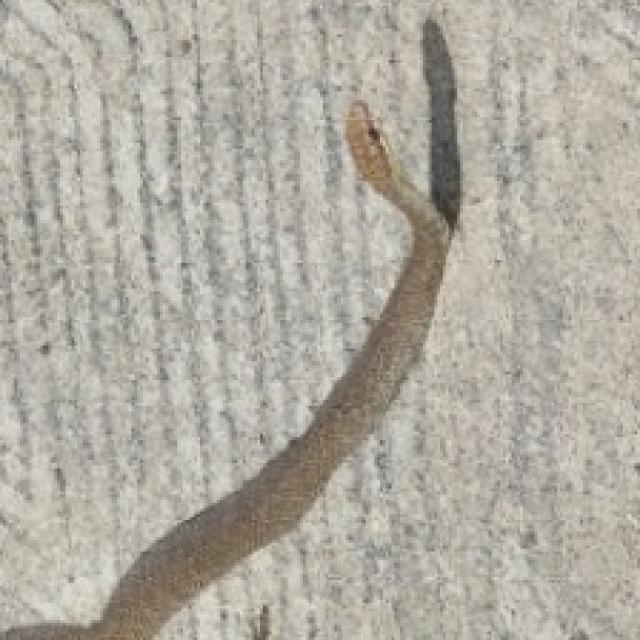paradise tree snake: (0, 103, 446, 637), (0, 9, 277, 389), (423, 20, 457, 223), (49, 291, 77, 346)
